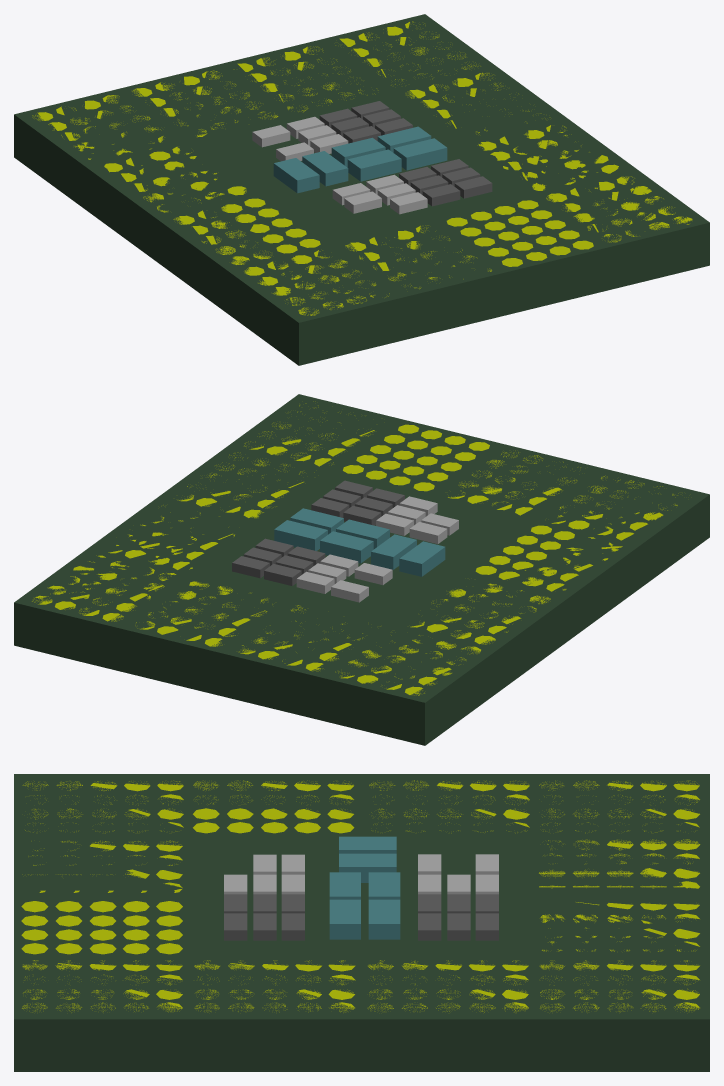
File: Analyzer_Chip.fbx
The picture shows the model from 3 angles, top to bottom: view 1: azimuth 30°, elevation 25°; view 2: azimuth 150°, elevation 25°; view 3: azimuth 270°, elevation 25°; orthographic projection. The views are drawn at different scales.
Parts seen in each view (by area): view 1: chipBase, pCube4 (×3), pCube7, pCube6, pCube10, pCube9, pCube8, pCube5, pCube2, pCube3; view 2: chipBase, pCube2 (×6), pCube8, pCube10, pCube5, pCube9, pCube7, pCube6, pCube4; view 3: chipBase, pCube2 (×8), pCube3 (×7), pCube4 (×7), pCube5, pCube6, pCube9, pCube10, pCube8, pCube7.
Part boxes in pixels (x1,y1,x2,y2): chipBase: (14,14,709,365); pCube4 (×3): (390,176,492,214); pCube7: (347,149,401,181); pCube6: (393,138,447,170); pCube10: (273,158,319,193); pCube9: (302,151,348,186); pCube8: (331,137,385,167); pCube5: (377,126,431,152); pCube2: (252,125,290,147); pCube3: (344,191,381,213); chipBase: (14,394,709,745); pCube2 (×6): (232,513,447,602); pCube8: (320,531,373,563); pCube10: (399,541,445,576); pCube5: (274,520,327,550); pCube9: (371,534,416,569); pCube7: (336,519,389,549); pCube6: (290,508,343,534); pCube4: (354,563,392,584); chipBase: (14,774,709,1071); pCube2 (×8): (281,854,498,940); pCube3 (×7): (253,854,470,940); pCube4 (×7): (224,854,441,940); pCube5: (368,899,400,939); pCube6: (329,899,360,939); pCube9: (339,853,396,882); pCube10: (339,836,396,853); pCube8: (368,872,400,899); pCube7: (329,872,360,899).
Bounding box in the file's own units: 5 × 0.65 × 6.
